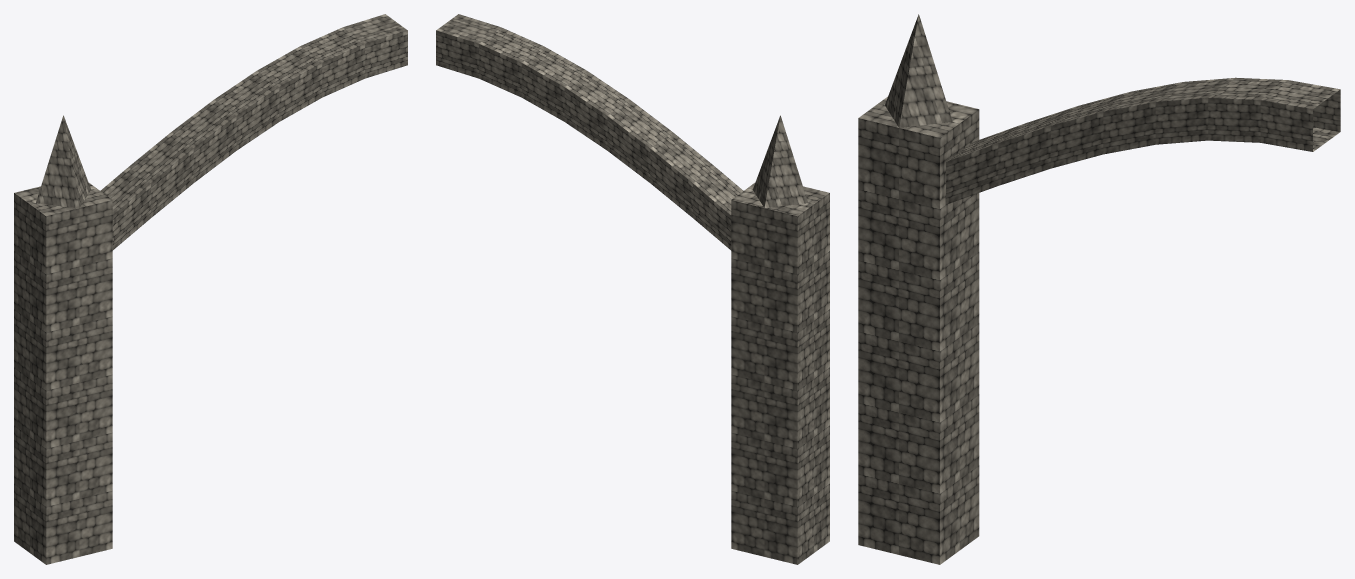
The model's file is Flyingbuttress_1_LOD1.gltf.
3 renders of one model, left to right at view 1: azimuth 30°, elevation 25°; view 2: azimuth 150°, elevation 25°; view 3: azimuth 330°, elevation 25°, orthographic. The views are drawn at different scales.
Parts seen in each view (by area): view 1: Flyingbuttress_1_LOD1; view 2: Flyingbuttress_1_LOD1; view 3: Flyingbuttress_1_LOD1.
Boxes of the visible parts, bbox=[...] form: Flyingbuttress_1_LOD1: bbox=[14, 14, 407, 564]; Flyingbuttress_1_LOD1: bbox=[436, 14, 829, 564]; Flyingbuttress_1_LOD1: bbox=[858, 14, 1340, 564].
Bounding box in the file's own units: 6.6 × 7.6 × 1.
Materials: 1 (1 with a texture image).
